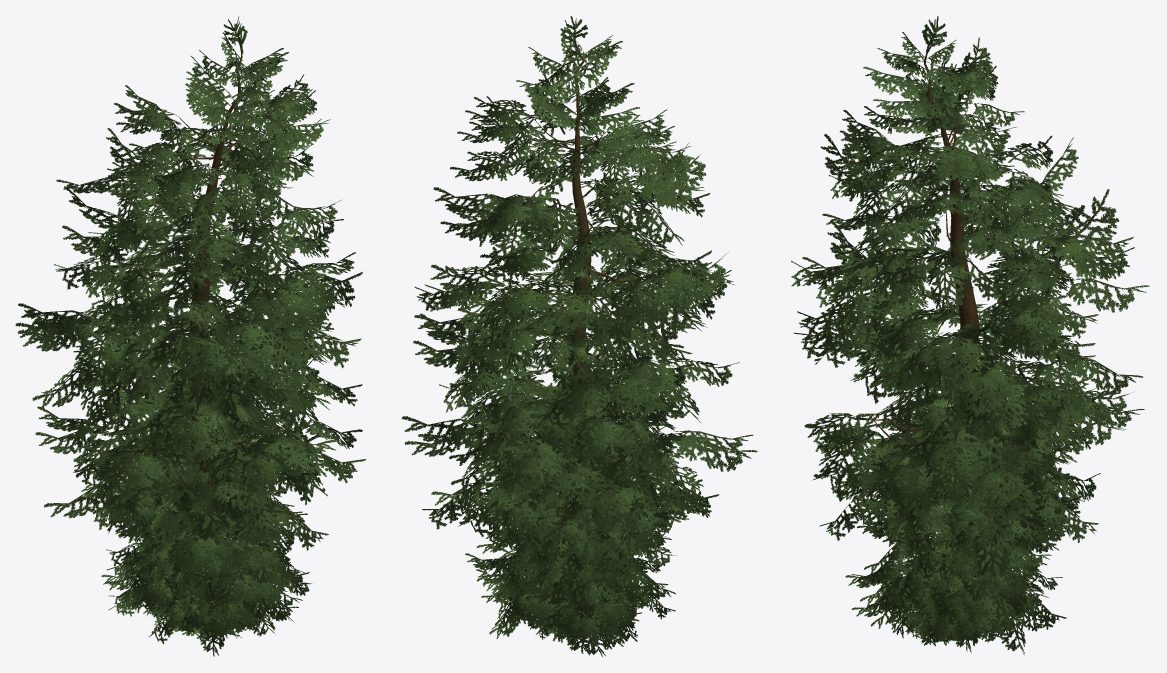
File: fir-pack-selected.glb
3 renders of one model, left to right at view 1: azimuth 30°, elevation 25°; view 2: azimuth 150°, elevation 25°; view 3: azimuth 270°, elevation 25°, orthographic. The views are drawn at different scales.
Parts seen in each view (by area): view 1: Christmas tree_2_LOD1_Brunches_Mat_0, Christmas tree_4_LOD1_Brunches_Mat_0, Christmas tree_5_LOD1_Brunches_Mat_0, Christmas tree_2_LOD1_Bark_Mat_0; view 2: Christmas tree_2_LOD1_Brunches_Mat_0, Christmas tree_4_LOD1_Brunches_Mat_0, Christmas tree_5_LOD1_Brunches_Mat_0, Christmas tree_2_LOD1_Bark_Mat_0; view 3: Christmas tree_2_LOD1_Brunches_Mat_0, Christmas tree_4_LOD1_Brunches_Mat_0, Christmas tree_5_LOD1_Brunches_Mat_0, Christmas tree_2_LOD1_Bark_Mat_0.
Boxes of the visible parts, x1,y1,x2,y2 form: Christmas tree_2_LOD1_Brunches_Mat_0: (15, 17, 366, 584); Christmas tree_4_LOD1_Brunches_Mat_0: (101, 339, 311, 638); Christmas tree_5_LOD1_Brunches_Mat_0: (105, 379, 309, 656); Christmas tree_2_LOD1_Bark_Mat_0: (120, 50, 272, 635); Christmas tree_2_LOD1_Brunches_Mat_0: (402, 17, 757, 584); Christmas tree_4_LOD1_Brunches_Mat_0: (465, 338, 677, 655); Christmas tree_5_LOD1_Brunches_Mat_0: (481, 373, 675, 656); Christmas tree_2_LOD1_Bark_Mat_0: (488, 46, 675, 637); Christmas tree_2_LOD1_Brunches_Mat_0: (791, 19, 1149, 584); Christmas tree_4_LOD1_Brunches_Mat_0: (845, 365, 1069, 652); Christmas tree_5_LOD1_Brunches_Mat_0: (852, 374, 1051, 655); Christmas tree_2_LOD1_Bark_Mat_0: (868, 53, 1038, 640).
Bounding box in the file's own units: 4.95 × 9.26 × 4.88.
Materials: 2 (2 with a texture image).
